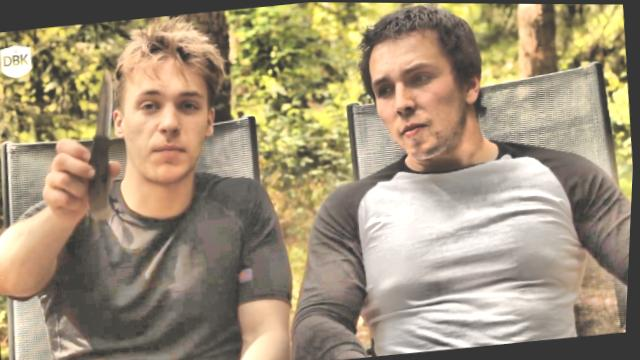knife: (65, 62, 135, 196)
